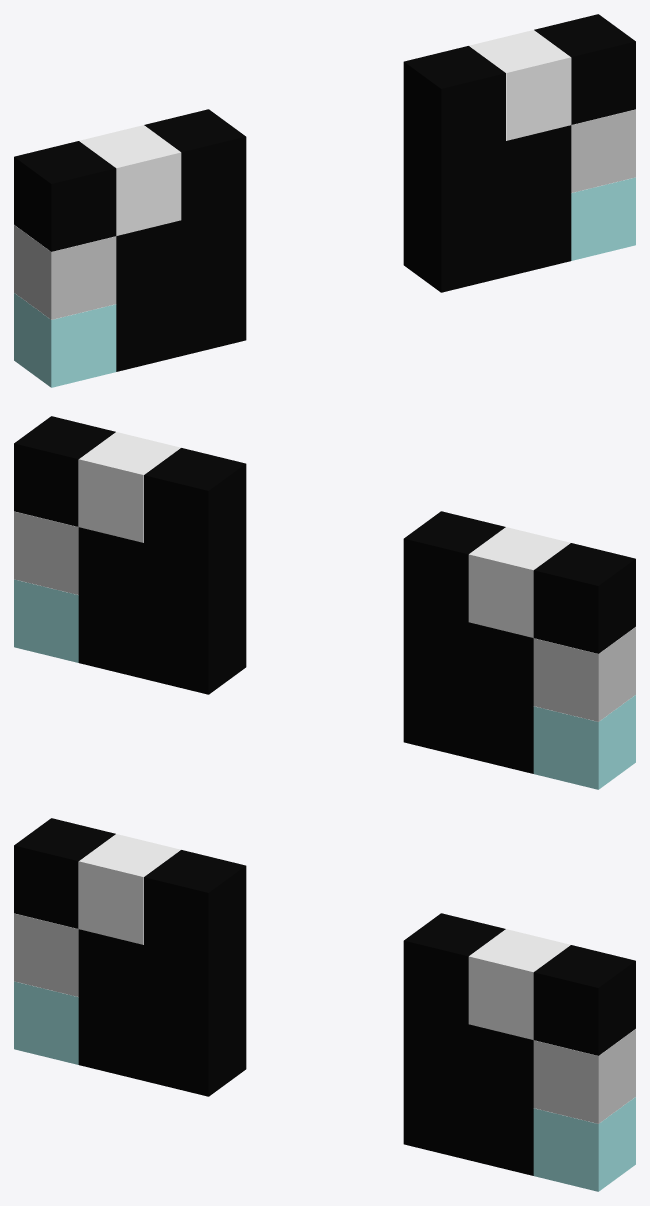
Rendered from 10_eyes_big.glb.
The picture shows the model from 3 angles, top to bottom: view 1: azimuth 30°, elevation 25°; view 2: azimuth 150°, elevation 25°; view 3: azimuth 330°, elevation 25°; orthographic projection.
Size of the model in its own units: 9 by 3 by 0.9985.
